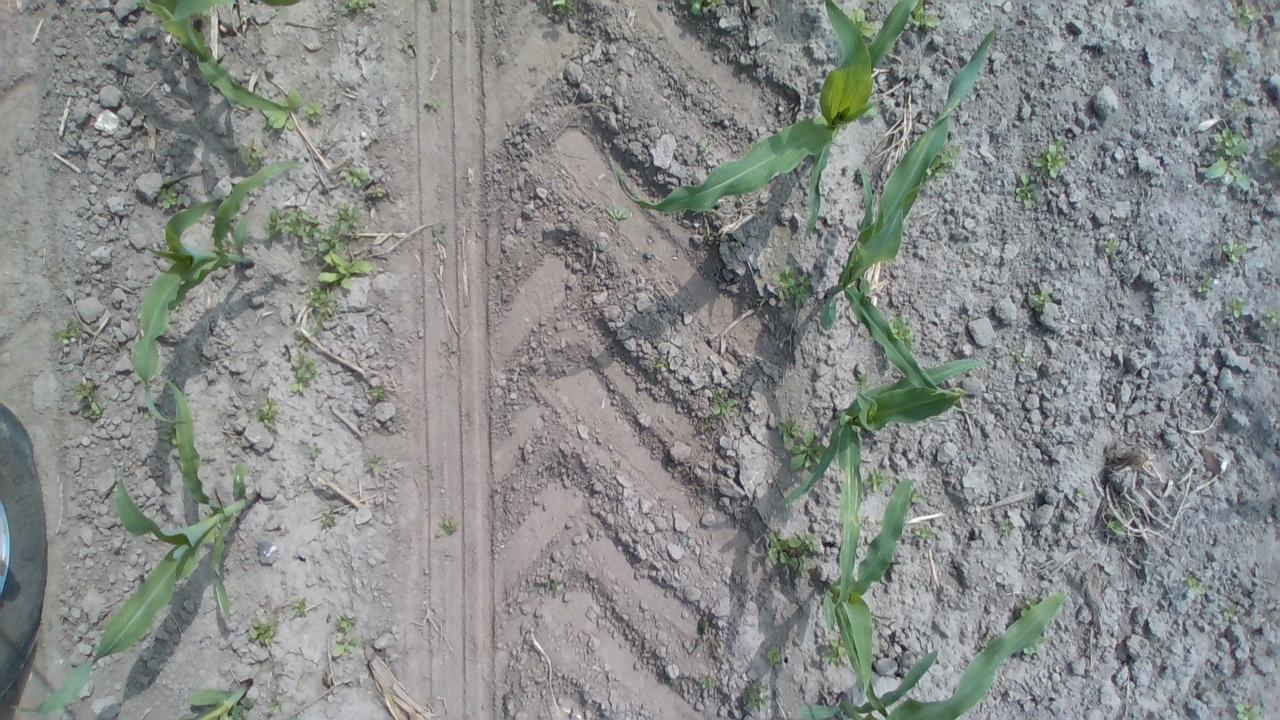Maize: (12, 378, 262, 716), (614, 0, 924, 242), (819, 24, 996, 398), (130, 160, 305, 426), (795, 589, 1068, 720), (776, 356, 986, 505), (822, 424, 915, 716), (136, 0, 308, 113), (186, 677, 254, 720)
Weeds: (264, 199, 366, 255), (764, 527, 824, 578), (314, 250, 376, 290), (260, 89, 302, 133), (688, 612, 724, 662), (771, 264, 812, 306), (788, 424, 827, 468), (1204, 158, 1252, 192), (1032, 134, 1069, 178), (304, 285, 345, 318), (290, 351, 319, 396), (1214, 126, 1250, 158), (710, 387, 740, 418), (819, 636, 848, 668), (746, 678, 773, 712), (255, 397, 279, 434), (1015, 169, 1036, 211), (1233, 0, 1263, 29), (863, 464, 894, 492), (249, 618, 281, 645), (50, 317, 81, 344), (1223, 235, 1249, 264), (154, 185, 186, 208), (236, 142, 262, 170), (332, 634, 362, 658), (851, 8, 876, 36), (776, 417, 800, 446), (1257, 138, 1280, 168), (434, 516, 461, 540), (910, 8, 941, 28), (1235, 700, 1265, 720), (346, 165, 372, 188), (1182, 572, 1208, 594), (1032, 288, 1054, 314), (232, 698, 256, 720), (318, 509, 340, 532), (890, 316, 911, 339), (1228, 295, 1248, 319), (431, 222, 449, 247), (363, 453, 384, 474), (942, 144, 962, 166), (931, 158, 953, 178), (337, 612, 359, 632), (1226, 44, 1244, 68), (290, 597, 308, 621), (74, 382, 94, 403), (699, 672, 720, 692), (306, 100, 323, 124), (767, 646, 785, 668), (999, 516, 1016, 539), (604, 207, 630, 222), (914, 523, 936, 540), (88, 401, 106, 421), (306, 441, 324, 460), (696, 137, 716, 154), (552, 0, 574, 15), (266, 693, 279, 718), (1108, 519, 1126, 537), (911, 486, 928, 505), (1104, 236, 1120, 256), (310, 314, 324, 336), (696, 417, 714, 434), (160, 428, 179, 444), (1196, 279, 1216, 294), (348, 0, 377, 10), (1263, 307, 1280, 324), (424, 99, 442, 114), (1010, 348, 1029, 362), (370, 387, 390, 400), (654, 356, 670, 372), (686, 0, 702, 15), (1026, 593, 1040, 609), (550, 578, 566, 592), (732, 231, 744, 249), (1076, 485, 1090, 500), (298, 335, 312, 350), (706, 0, 724, 11), (862, 514, 876, 528), (1223, 602, 1237, 616), (1233, 99, 1246, 113), (702, 229, 714, 244), (858, 376, 869, 392), (1038, 636, 1054, 646), (160, 176, 176, 185), (530, 582, 542, 594), (447, 338, 457, 352), (430, 0, 439, 8), (205, 187, 212, 196)
